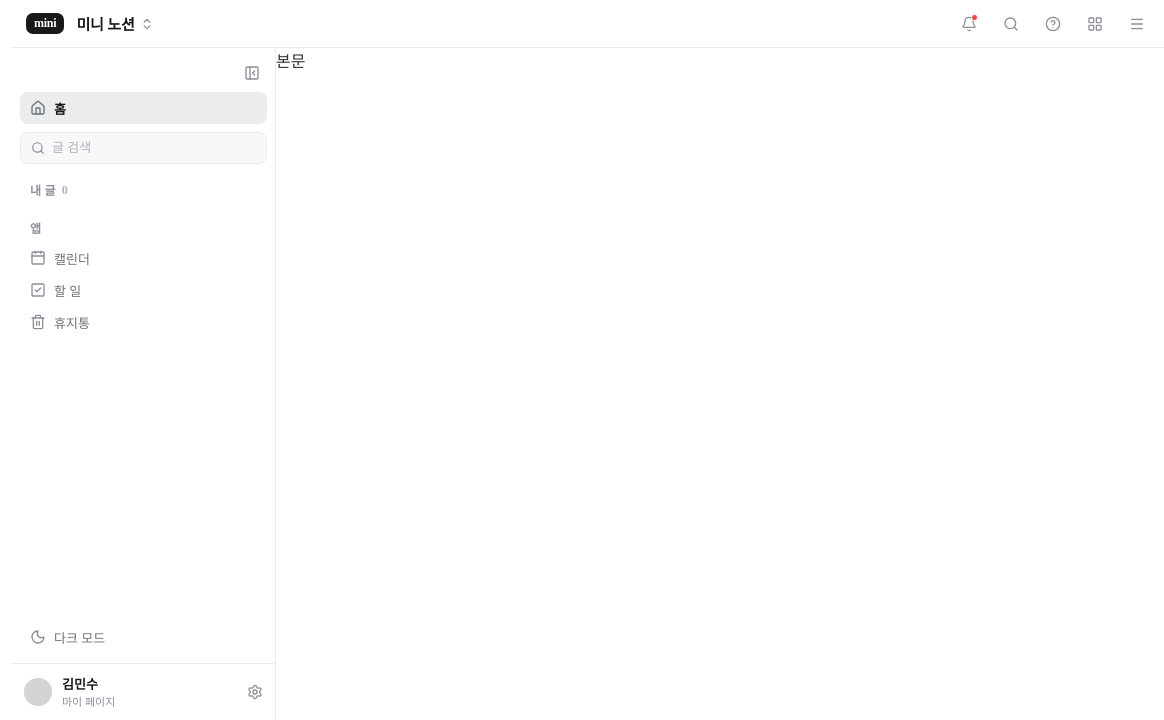
Test case: US1: 사이드바 접기/펼치기 토글 › 접기 클릭 — 사이드바 전체가 사라지고 "사이드바 펼치기" 버튼이 aria-expanded="false"로 남는다
Check: the field with placeholder "글 검색" is shown, box [52,140,256,156]
Click the button named "사이드바 접기". click: (252, 73)
box: [237,58,267,88]
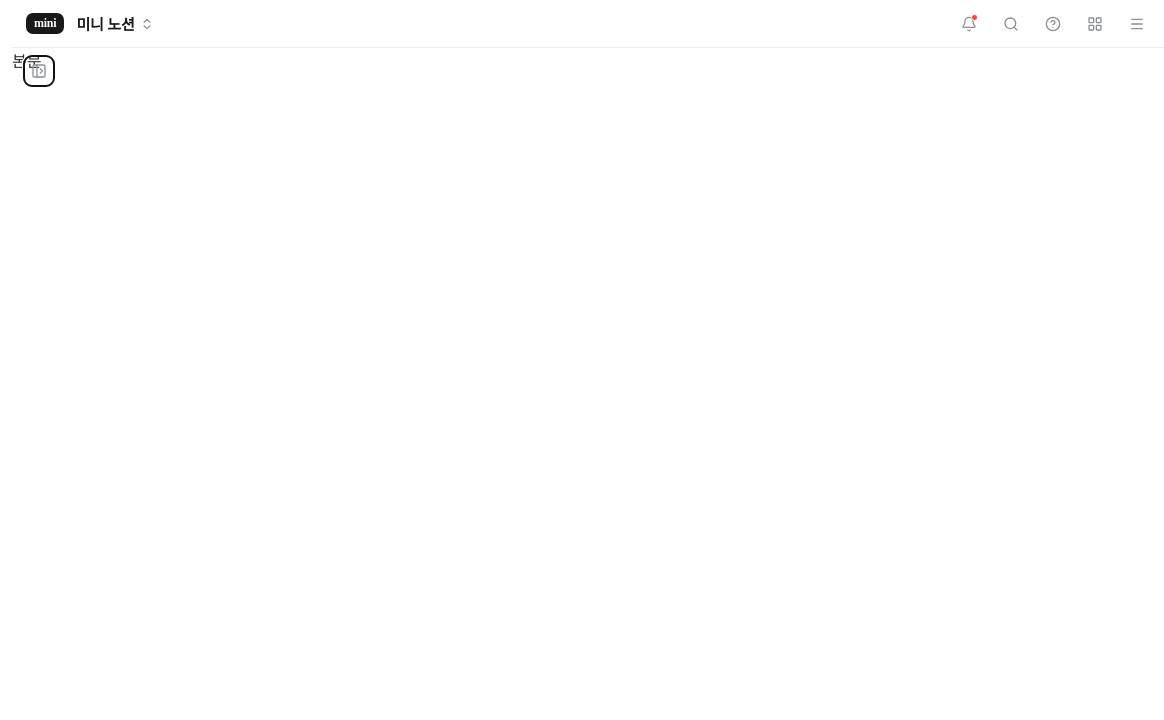
Check: the field with placeholder "글 검색" is not shown
Check: the button "홈" is gone
Check: the button named "사이드바 펼치기" is collapsed, box [24,56,54,86]
